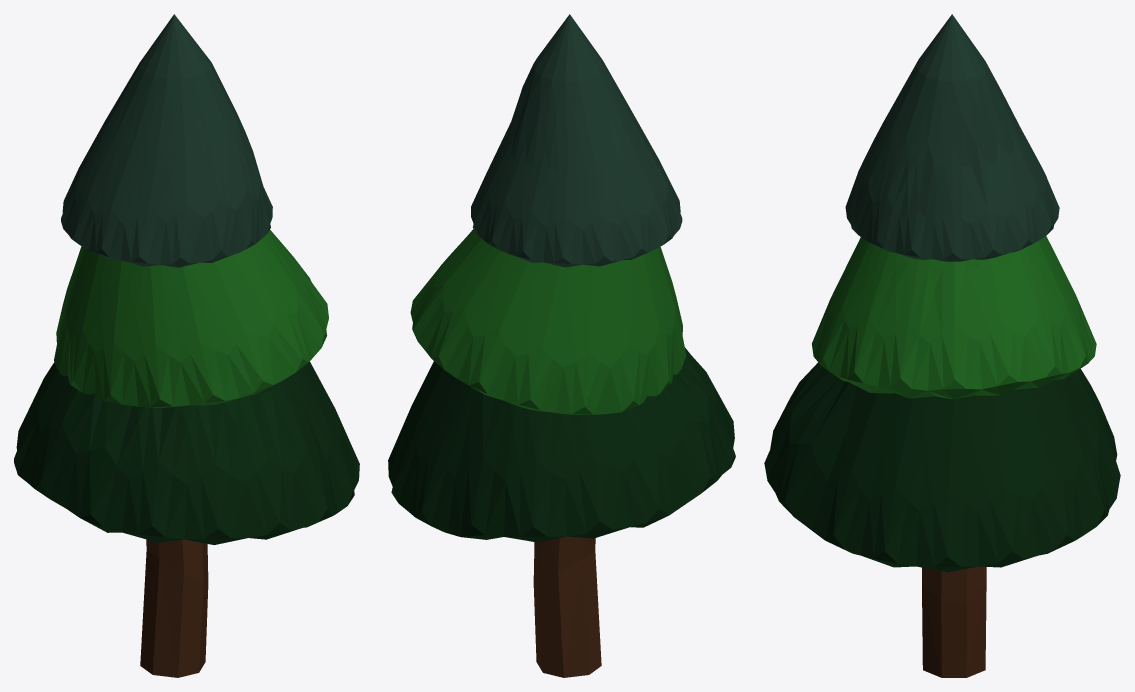
Rendered from Abete.dae.
The picture shows the model from 3 angles, left to right: view 1: azimuth 30°, elevation 25°; view 2: azimuth 150°, elevation 25°; view 3: azimuth 270°, elevation 25°; orthographic projection.
Visible parts, largest first — view 1: Cone.002, Cone.001, Cone, Cube; view 2: Cone.002, Cone.001, Cone, Cube; view 3: Cone.002, Cone.001, Cone, Cube.
Part boxes in pixels (left/top/right/bottom): Cone.002: left=14, top=361, right=359, bottom=544; Cone.001: left=54, top=230, right=328, bottom=407; Cone: left=61, top=14, right=272, bottom=267; Cube: left=140, top=539, right=208, bottom=677; Cone.002: left=388, top=347, right=735, bottom=542; Cone.001: left=410, top=229, right=686, bottom=414; Cone: left=471, top=14, right=682, bottom=267; Cube: left=533, top=536, right=601, bottom=677; Cone.002: left=764, top=362, right=1120, bottom=572; Cone.001: left=812, top=236, right=1096, bottom=399; Cone: left=845, top=14, right=1059, bottom=261; Cube: left=922, top=566, right=986, bottom=677.
Size of the model in its own units: 4.29 by 4.4 by 8.94.
